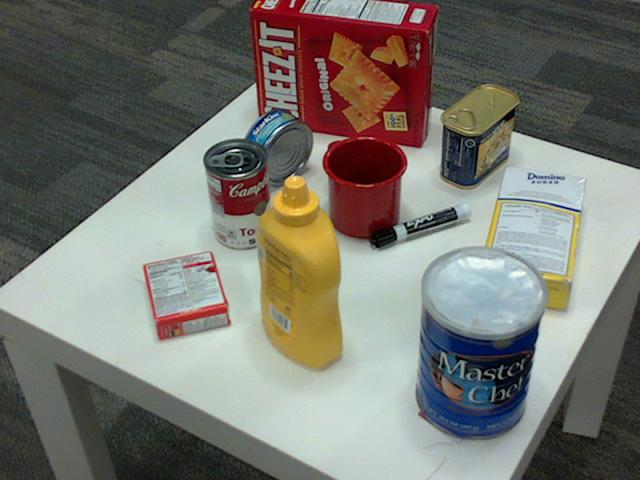cracker_box: (251, 0, 437, 146)
gelatin_box: (139, 249, 226, 339)
large_marker: (370, 206, 472, 247)
master_chef_can: (417, 248, 550, 442)
mug: (320, 134, 406, 237)
mustard_bottle: (255, 177, 341, 368)
potted_meat_can: (439, 86, 517, 189)
sugar_box: (475, 165, 584, 312)
tomato_soup_can: (203, 139, 272, 250)
tuna_fish_can: (240, 108, 312, 185)
